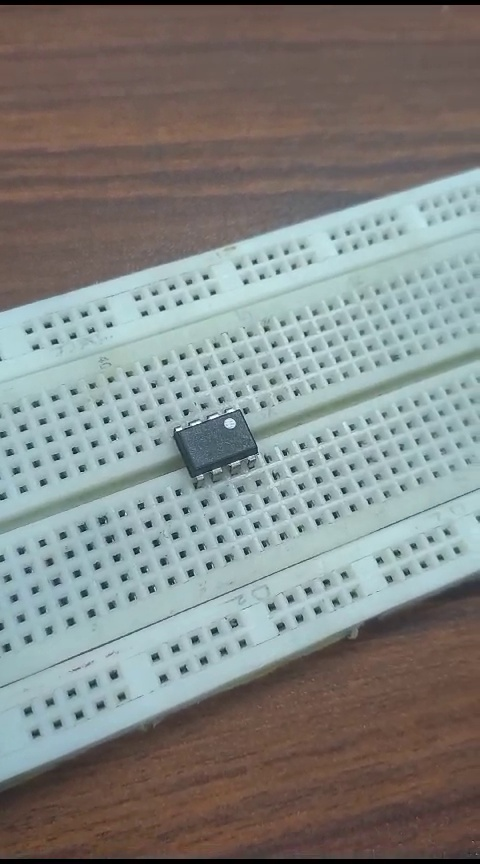IC: (160, 388, 266, 487)
